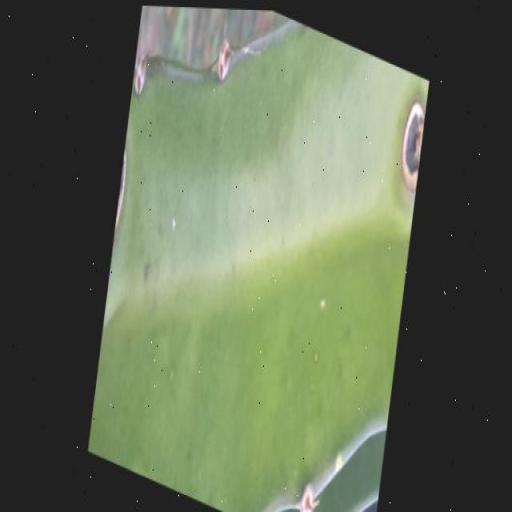stemcanker: (306, 225, 328, 260), (300, 284, 319, 310), (166, 169, 178, 198)
